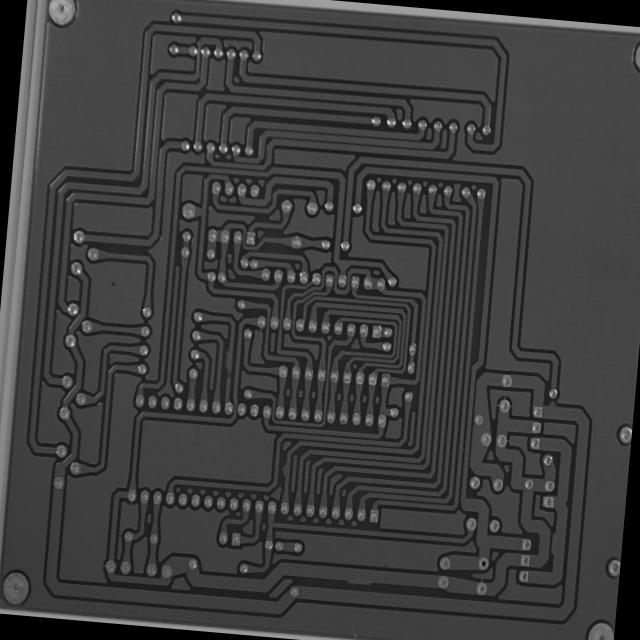spur: (344, 570, 374, 590), (546, 528, 561, 558), (222, 344, 232, 373), (277, 460, 290, 480), (544, 397, 560, 412)
